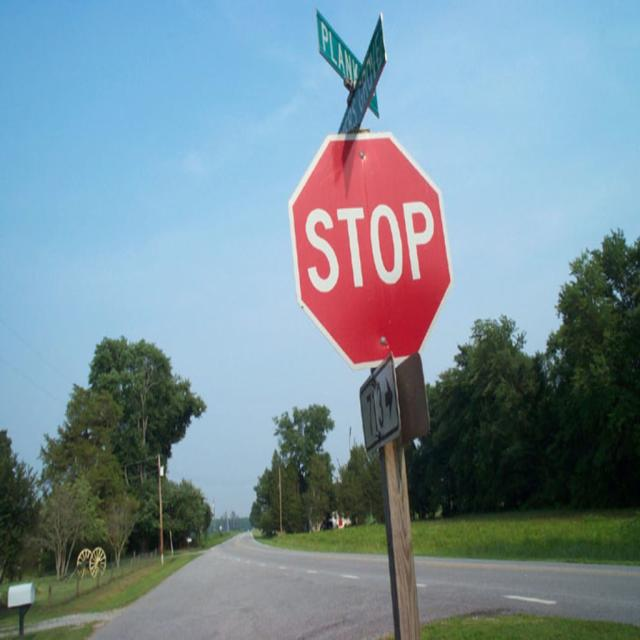Stop-sign: (287, 128, 452, 374)
